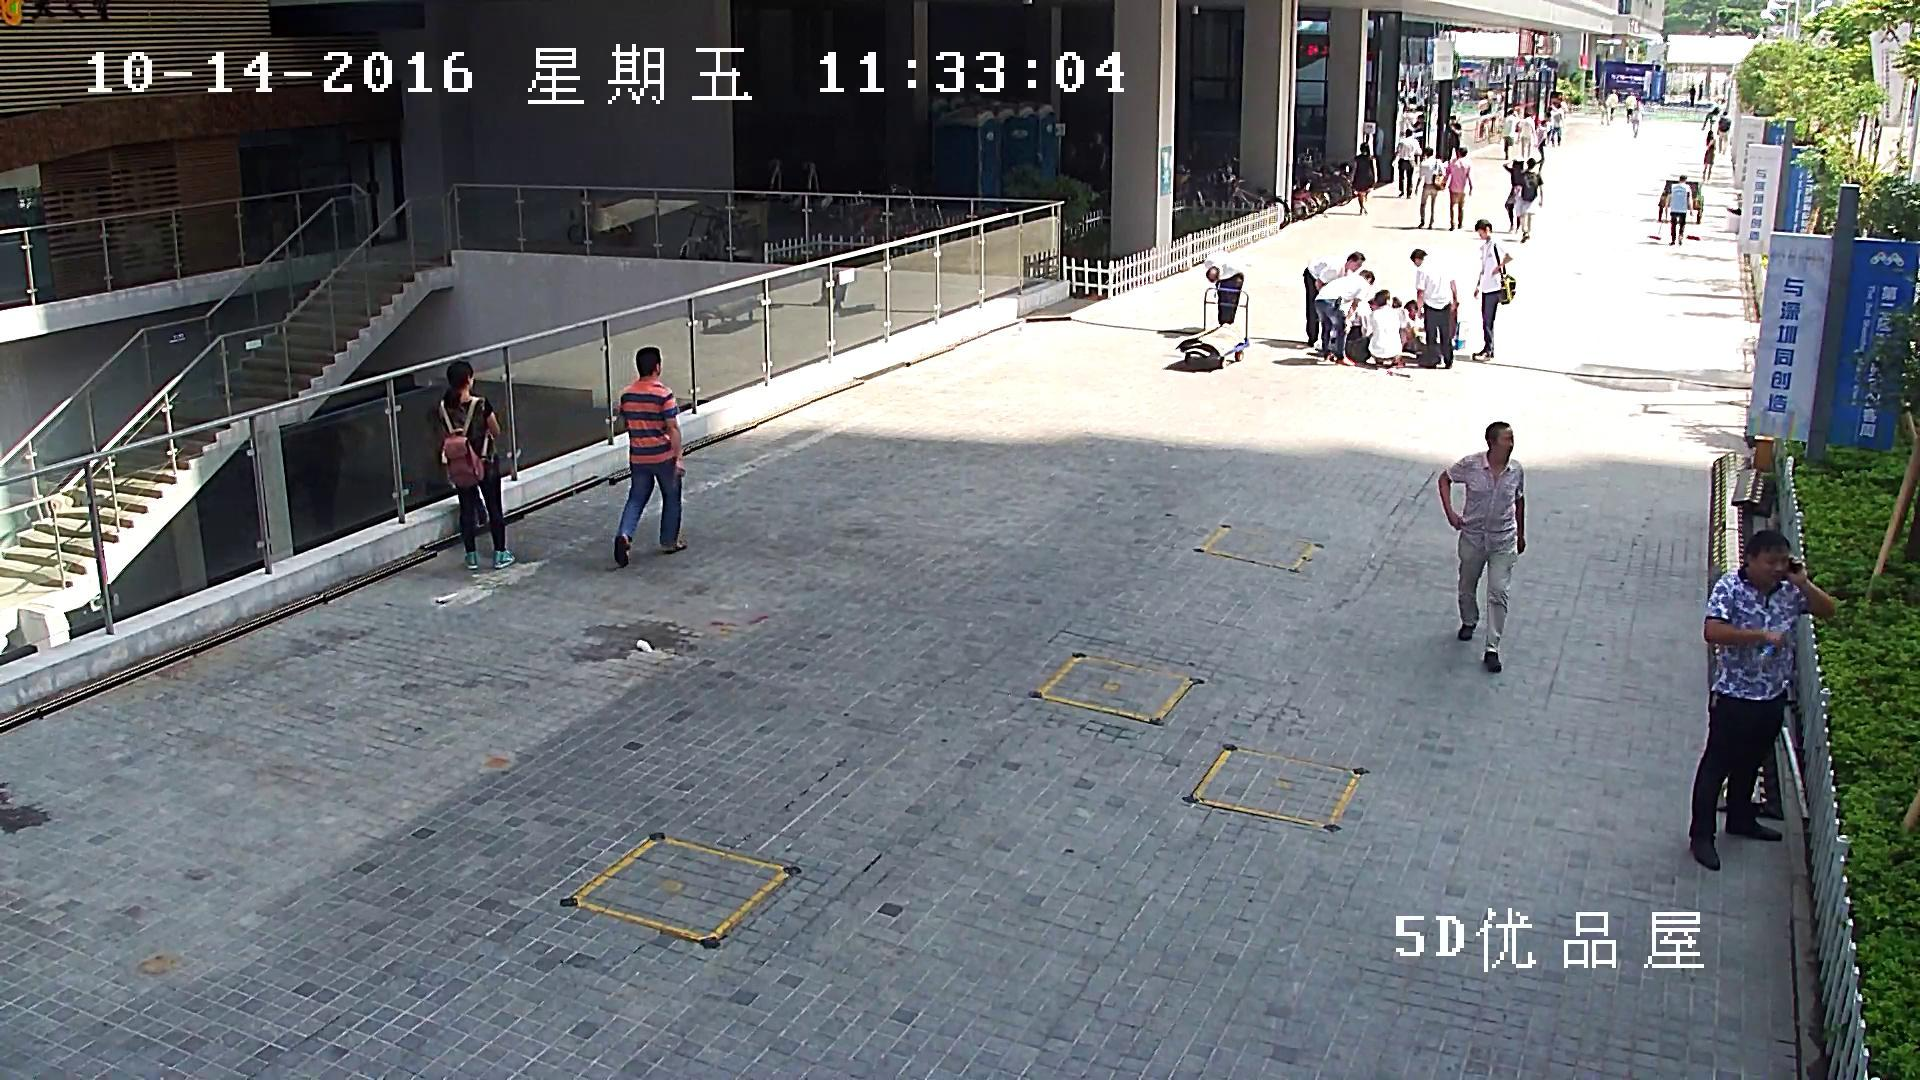person: (1689, 529, 1837, 871), (1438, 421, 1525, 673), (438, 360, 520, 568), (613, 346, 690, 566), (1472, 218, 1516, 361), (1303, 251, 1366, 346), (1314, 269, 1376, 365), (1410, 248, 1456, 368), (1365, 289, 1407, 368), (1202, 254, 1243, 325), (1414, 146, 1445, 230), (1658, 175, 1693, 245), (1442, 146, 1471, 231), (1403, 300, 1441, 363), (1344, 298, 1376, 366), (1517, 158, 1542, 242), (1391, 129, 1422, 198), (1352, 142, 1375, 215), (1502, 160, 1523, 232), (1444, 115, 1462, 158), (1501, 109, 1517, 159), (1518, 112, 1535, 156), (1409, 114, 1427, 150), (1703, 130, 1715, 179), (1549, 102, 1563, 148), (1718, 110, 1731, 154), (1535, 121, 1546, 164), (1626, 93, 1636, 123), (1632, 103, 1641, 139), (1609, 89, 1618, 119), (1689, 83, 1695, 107)
